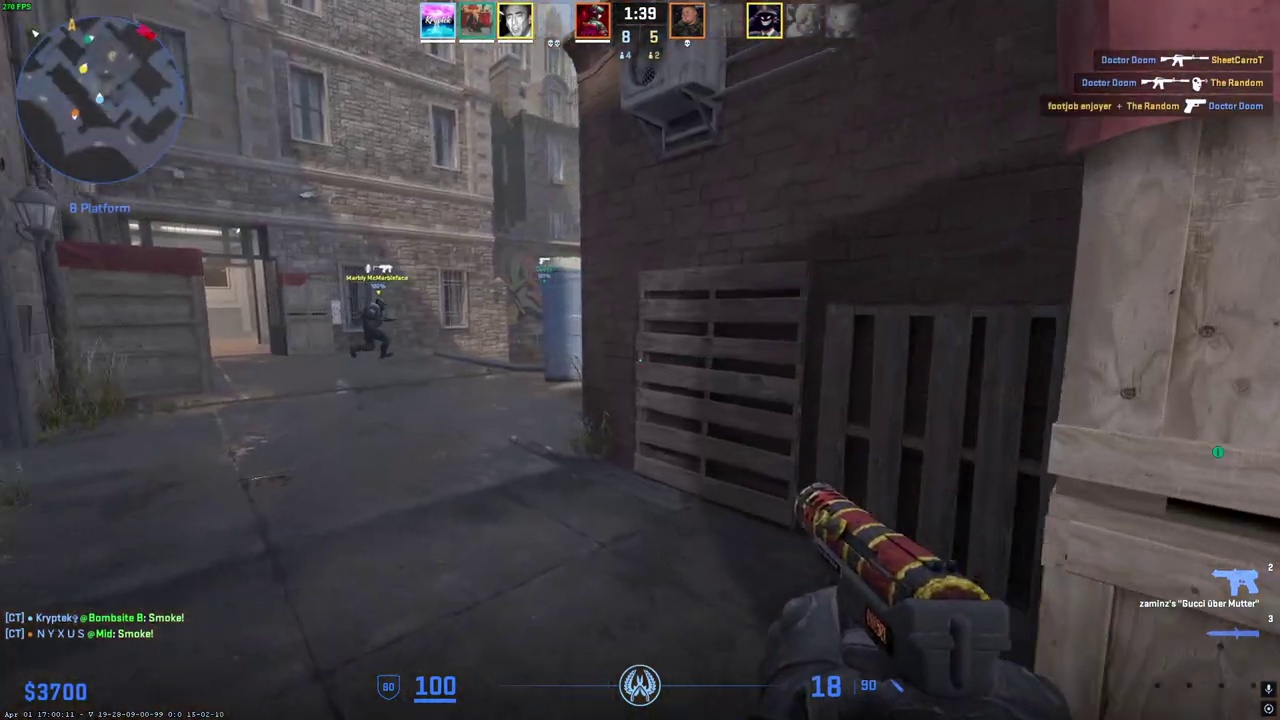CT: (355, 298, 394, 359)
